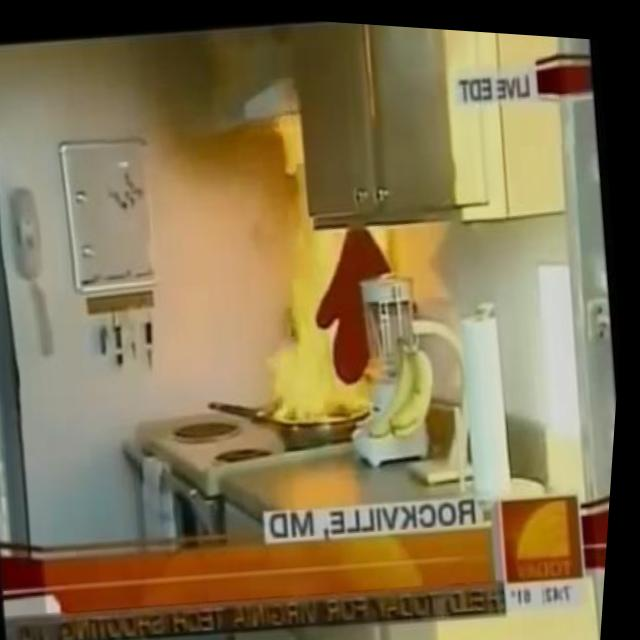fire: (230, 100, 396, 430)
